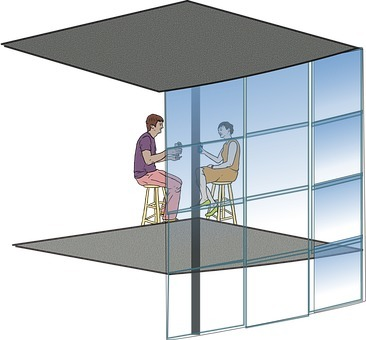chair: (137, 179, 171, 228), (209, 179, 242, 228)
person: (133, 104, 189, 221), (195, 116, 244, 223)
